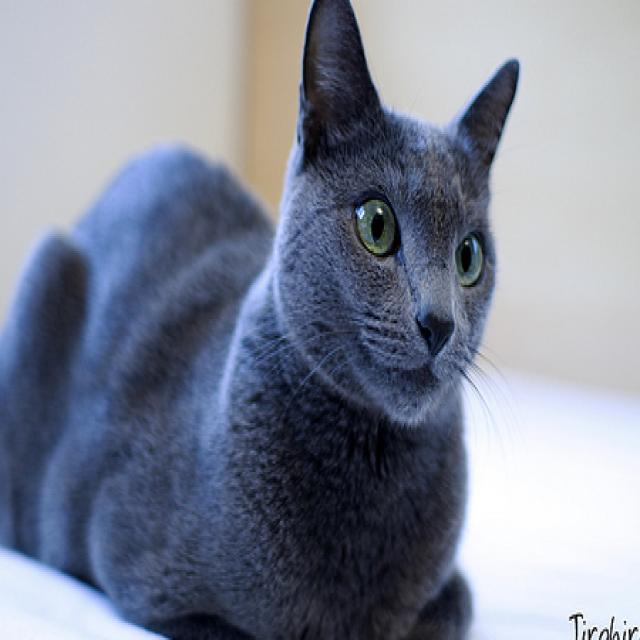Russian Blue: (0, 0, 522, 640)
